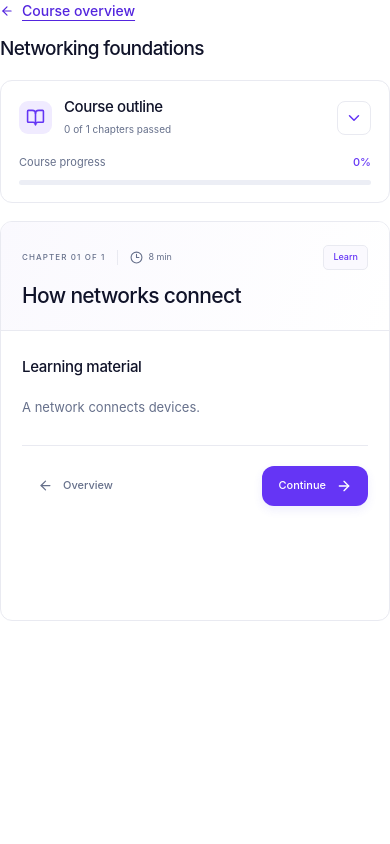
Test: hosted learning navigation and system profile › provides a mobile outline toggle and retains lesson section navigation
The image size is (390, 844).
Click the button named "Show course outline": point(354, 118) [337,101,371,135]
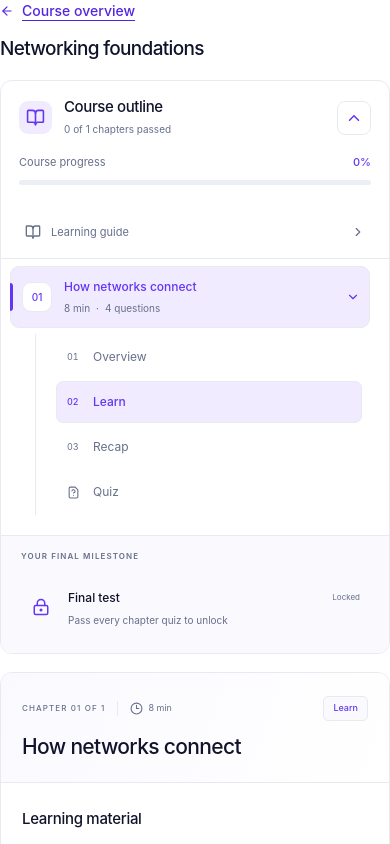
Expected: the button named "Hide course outline" is expanded, [337,101,371,135]
Click the button "Quiz": point(74, 492) [56,472,362,514]
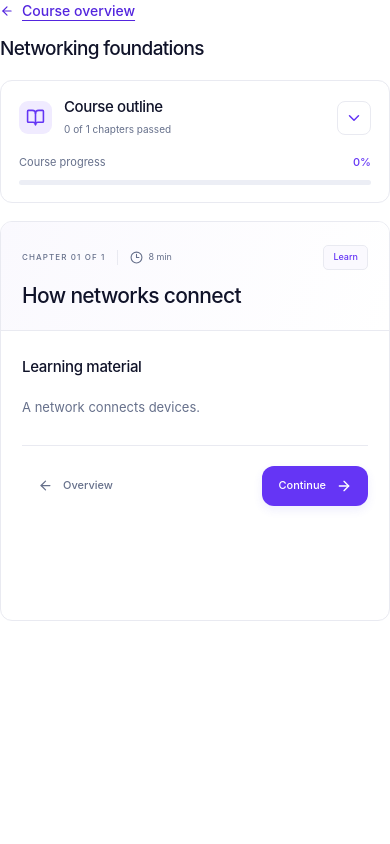
Expected: the button named "Show course outline" is collapsed, [337,101,371,135]
